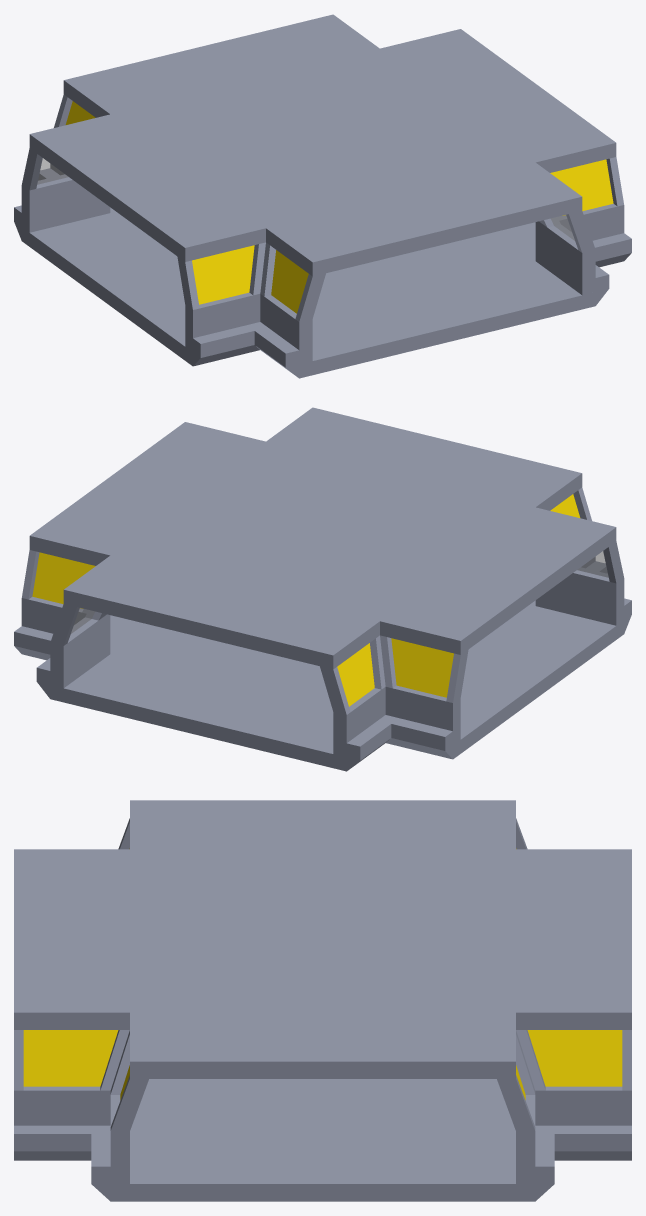
The model's file is tunnel_0001_center_v01.gltf.
3 renders of one model, top to bottom at view 1: azimuth 30°, elevation 25°; view 2: azimuth 150°, elevation 25°; view 3: azimuth 270°, elevation 25°, orthographic. The views are drawn at different scales.
Parts seen in each view (by area): view 1: massing, group_1.008, group_1.004, group_1.002; view 2: massing, group_1.001, group_1.005, group_1.006; view 3: massing, group_1.003, group_1.007.
Part boxes in pixels (box(x1,y1,x2,y2)): massing: box(14, 14, 631, 378); group_1.008: box(192, 245, 254, 304); group_1.004: box(550, 159, 613, 215); group_1.002: box(271, 250, 308, 313); massing: box(14, 407, 631, 771); group_1.001: box(391, 638, 453, 697); group_1.005: box(32, 552, 95, 608); group_1.006: box(337, 643, 374, 706); massing: box(14, 800, 631, 1201); group_1.003: box(23, 1030, 118, 1086); group_1.007: box(527, 1030, 622, 1086).
Size of what is drawn, in the model's own units: 16 by 4 by 16.
